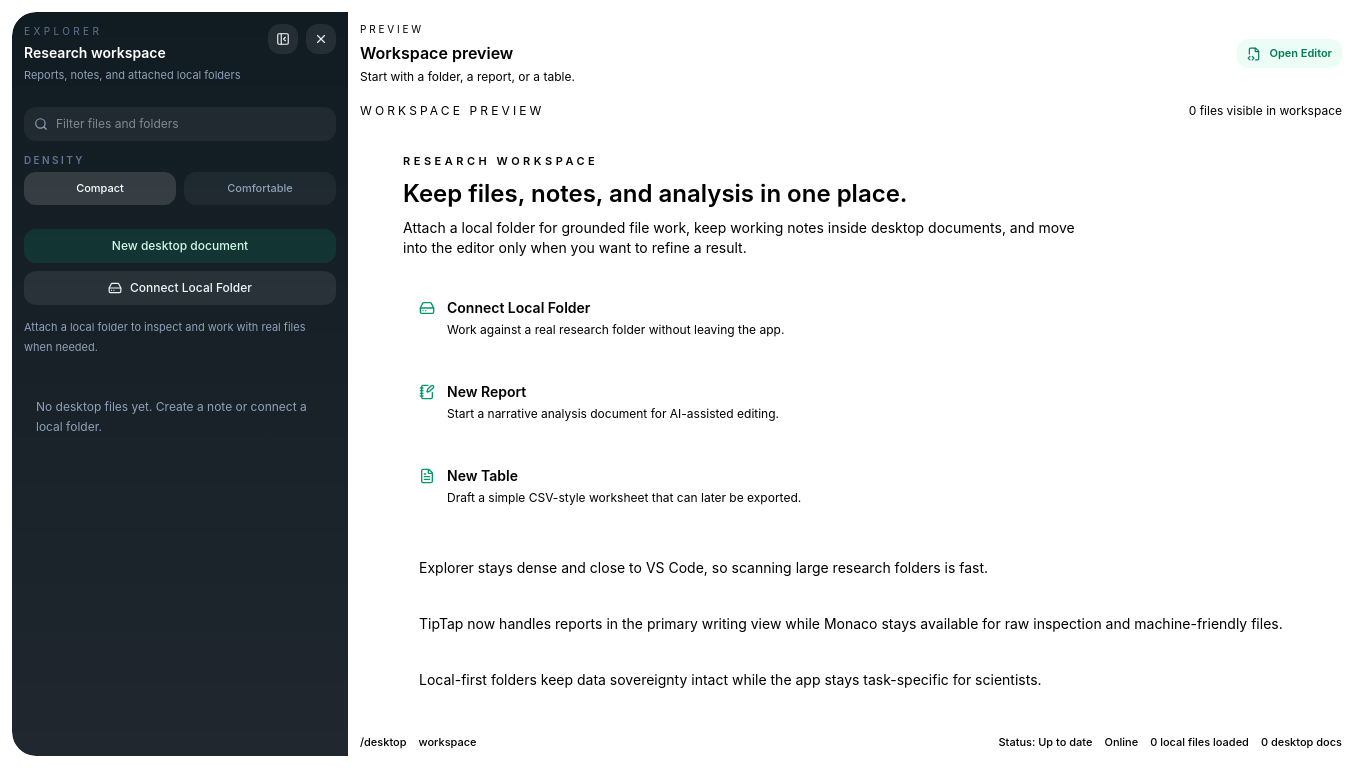
DesktopWorkbench local explorer › reconnect replaces the previous local tree with the new folder contents
Click the button "Connect Local Folder": {"x": 180, "y": 288} [24,270,336,304]
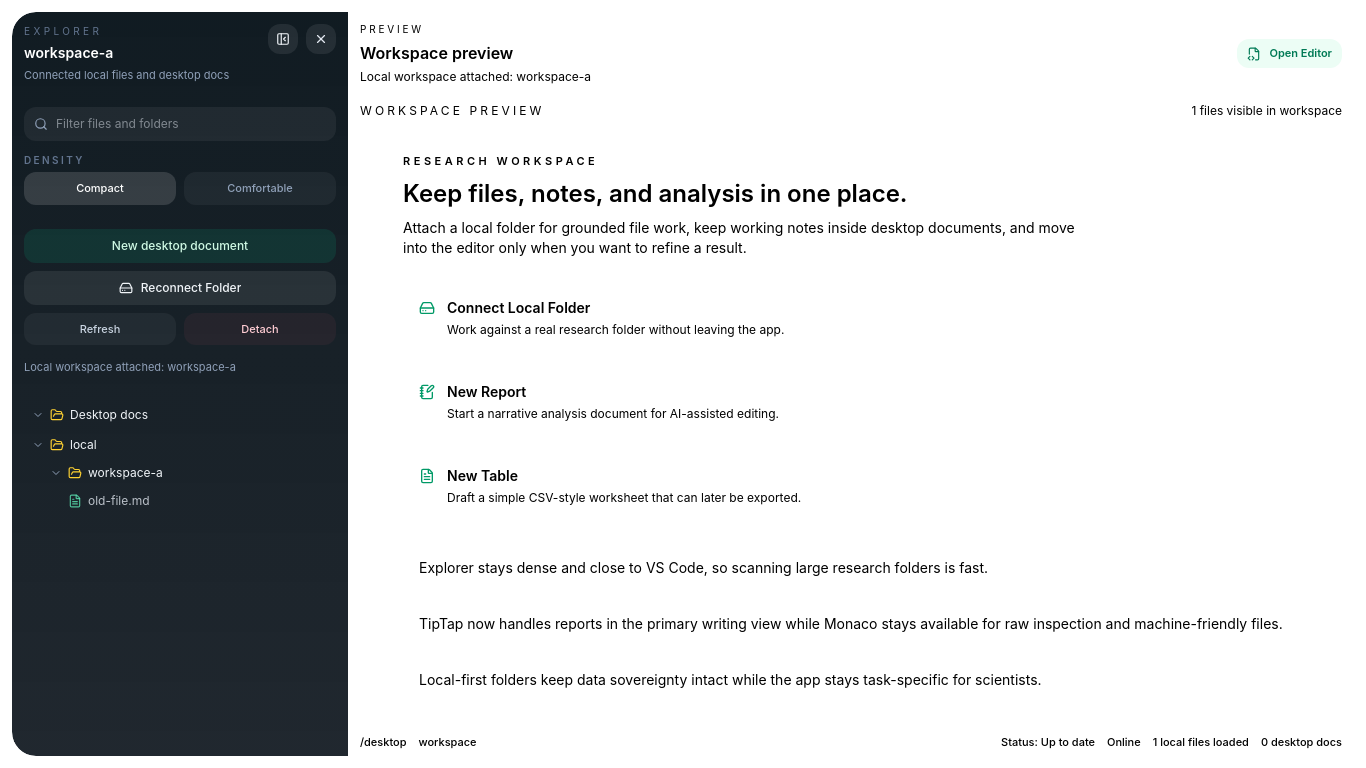
Result: the text "old-file.md" is shown at [88,491,150,511]
Click the button "Reconnect Folder": {"x": 180, "y": 288} [24,270,336,304]
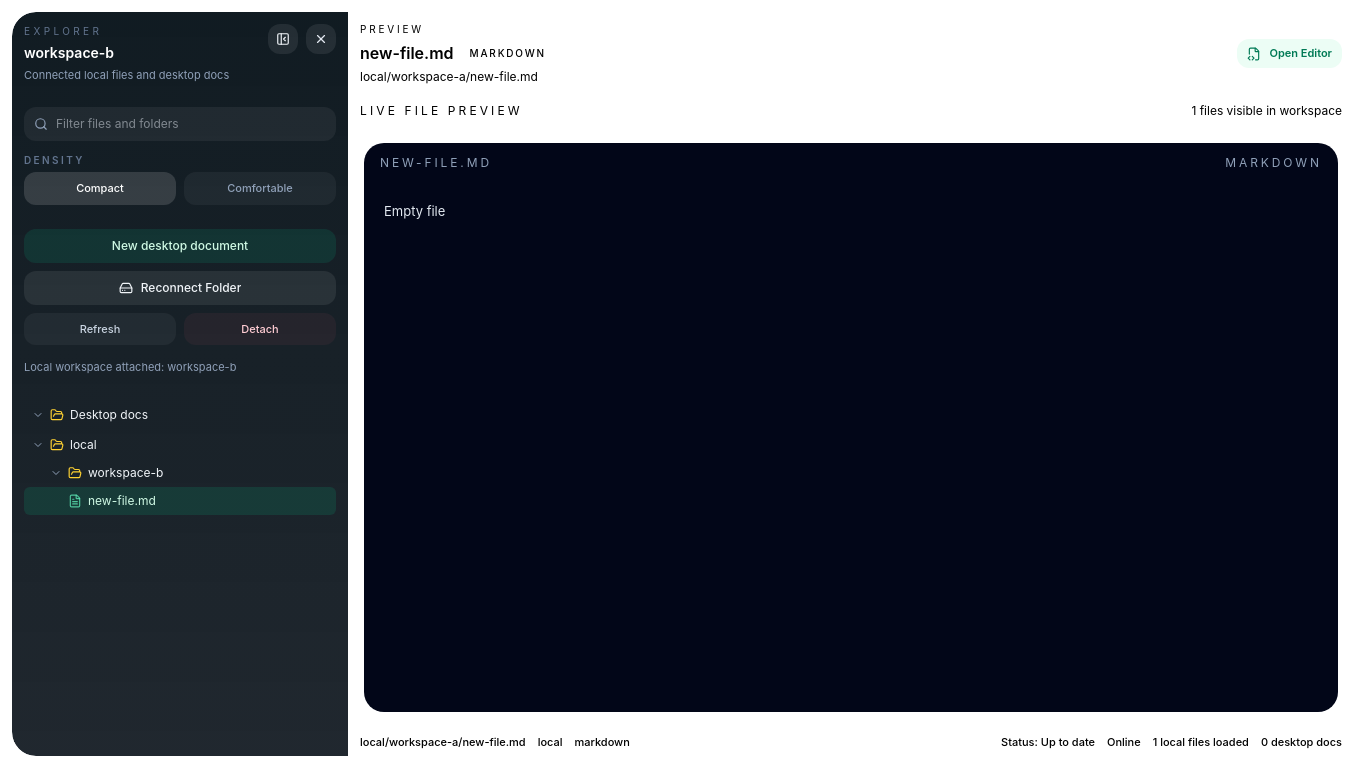
Result: the 2nd text "new-file.md" is shown at [88,491,156,511]
Result: the text "old-file.md" is gone
